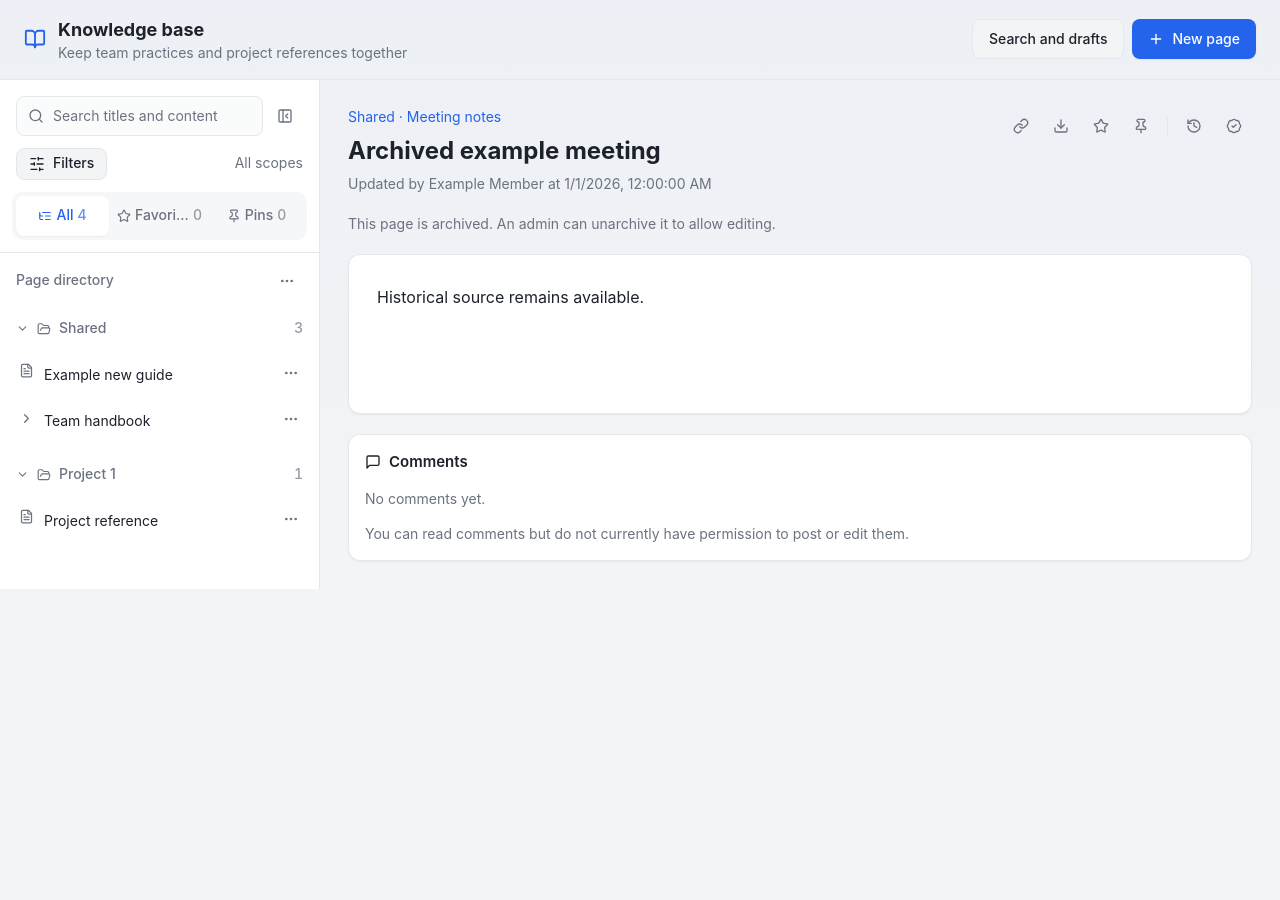
it: knowledge base user flow › opens an authorized archived source through a deep link without enabling editing
The width and height of the screenshot is (1280, 900).
Expected: the heading "Archived example meeting" is shown, [348,135,712,167]
Expected: the text "Historical source remains available." is shown, [377,287,644,307]
Click the button "Filters" at x=62, y=164, box [16,148,107,180]
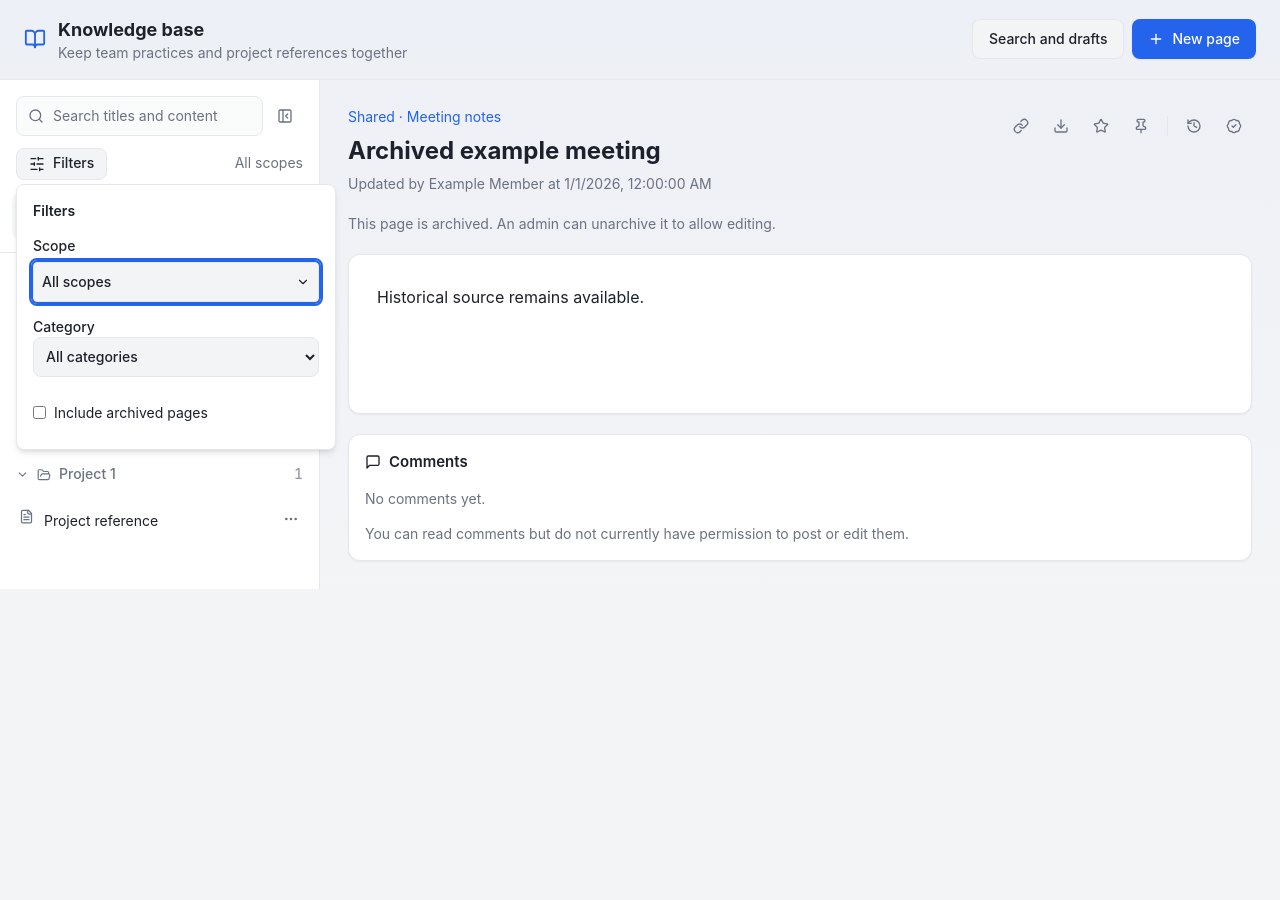
Result: the checkbox labelled "Include archived pages" is not checked at [33,406,46,419]
